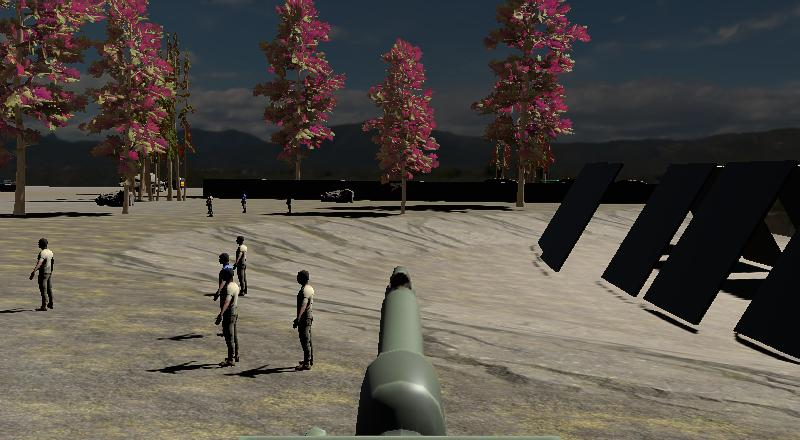Human: (212, 249, 241, 369), (290, 264, 319, 372), (28, 233, 59, 314), (238, 190, 250, 215)
Tank: (73, 185, 134, 210)
